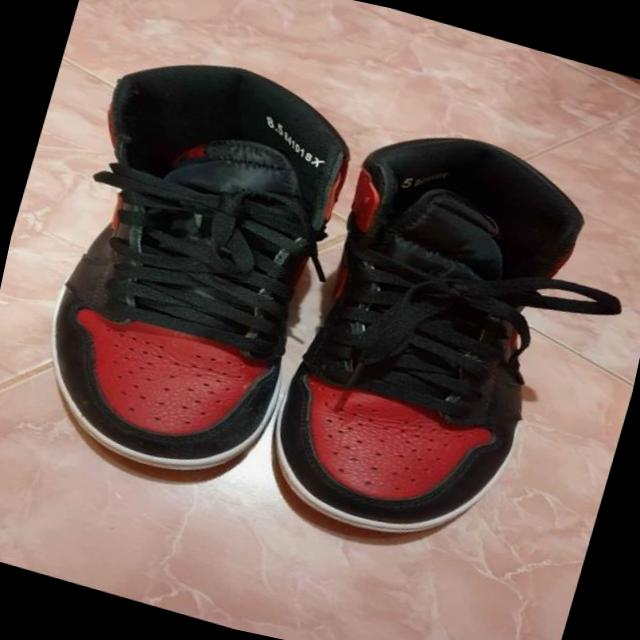nike_original_jordan: (5, 28, 373, 525), (241, 99, 614, 574)
